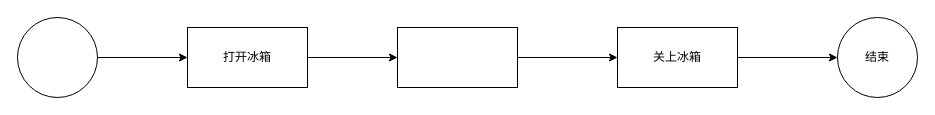
Some shapes in this 935 by 115 pixel diagram are drawn without their labels. The centre of each missing label's shape, as x and y in pixels:
"开始" belongs at (x=57, y=57).
"装大象" belongs at (x=457, y=57).
